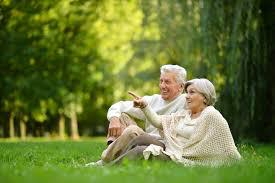Person: (87, 57, 190, 171), (123, 82, 246, 169)
